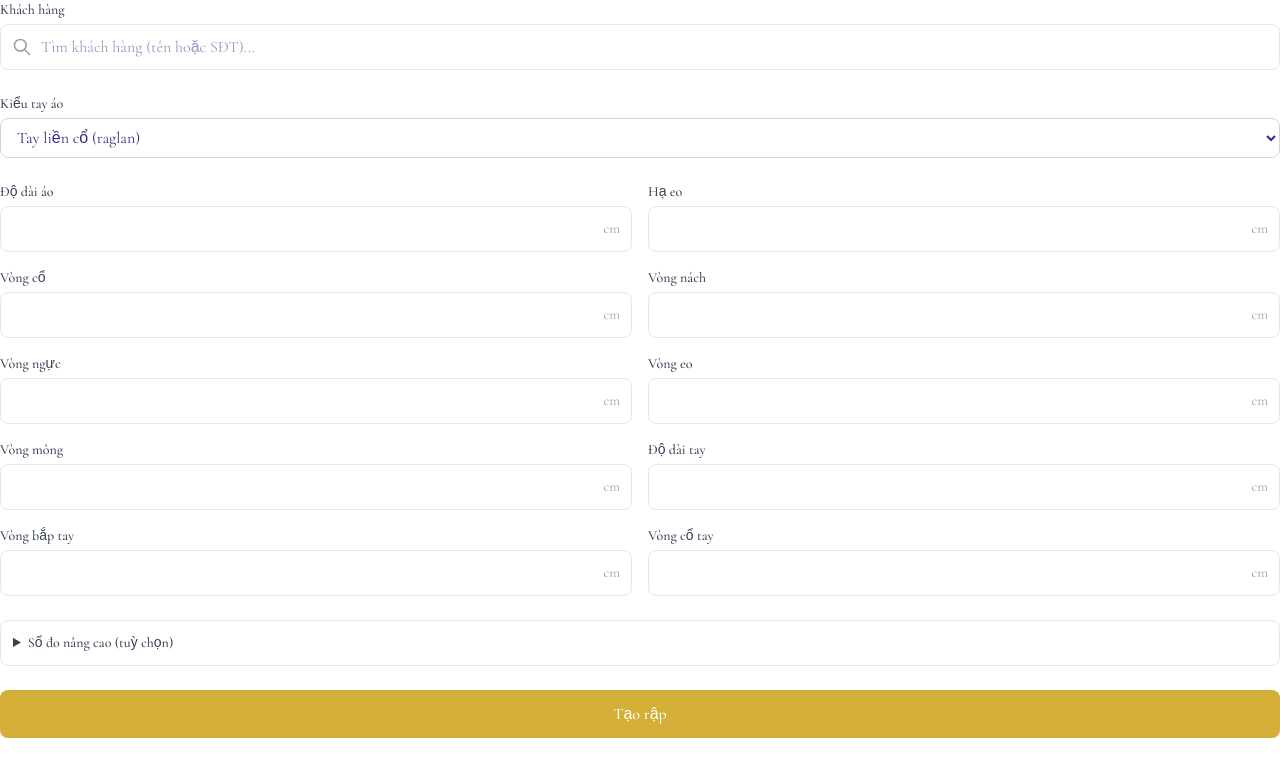
Test case: MeasurementForm › shows loading spinner when measurement is being fetched
Type "Nguyễn" into the field with placeholder "Tìm khách hàng (tên hoặc SĐT)..." at (640, 47), box [0, 24, 1279, 70]
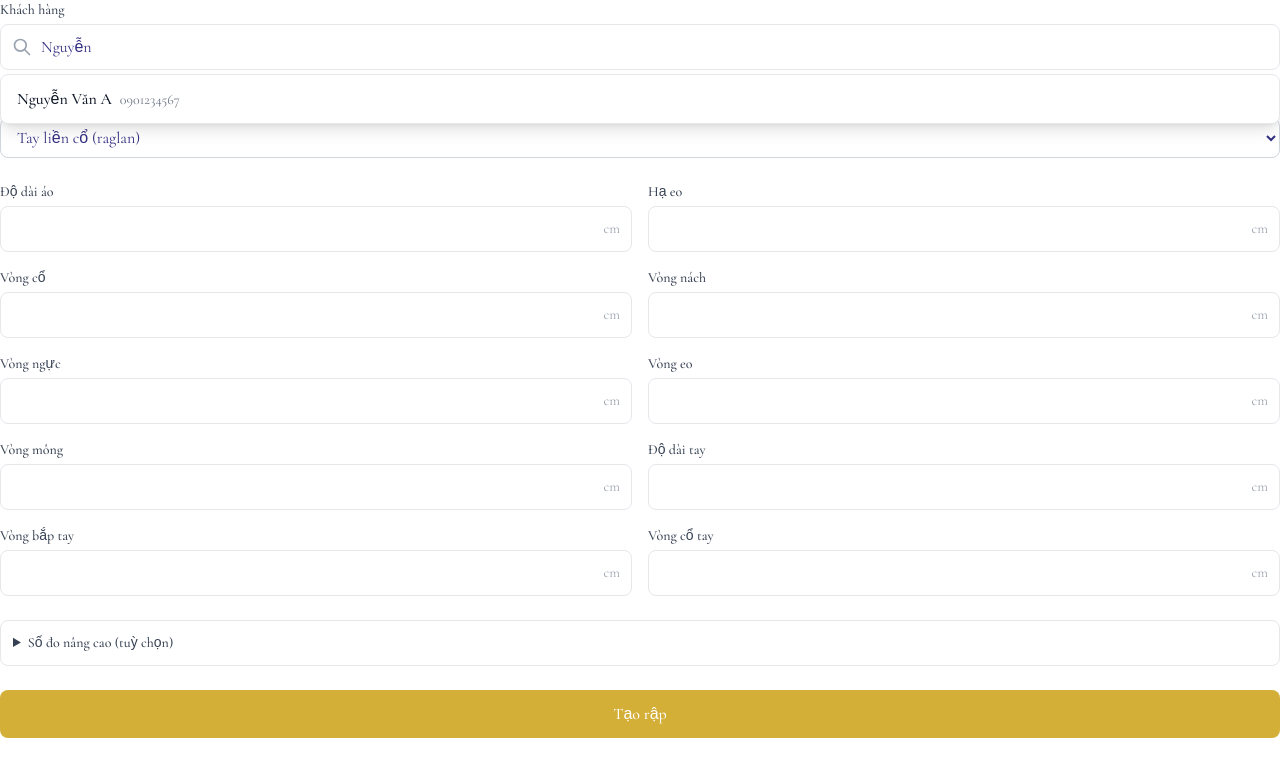
Click the option "Nguyễn Văn A0901234567" at (64, 99), box [1, 75, 1279, 123]
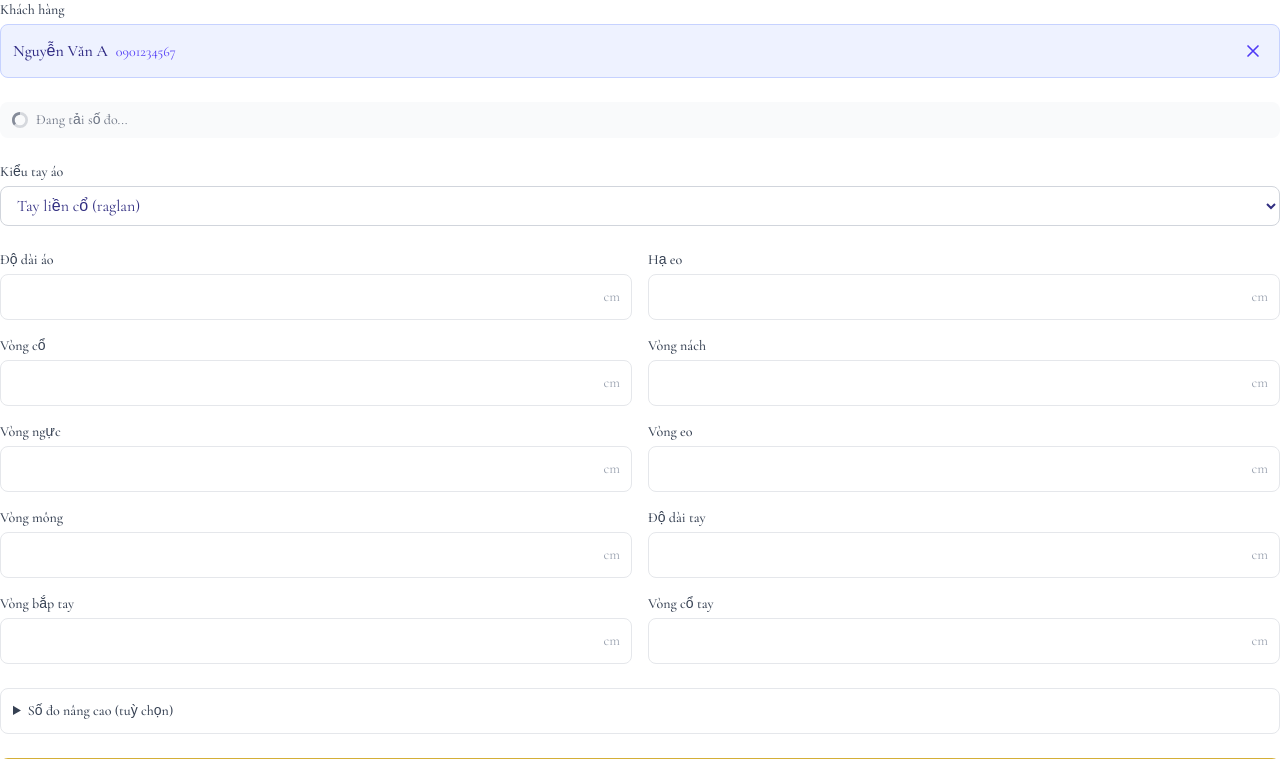
Expected: the text "Đang tải số đo..." is shown, [36, 110, 128, 130]
